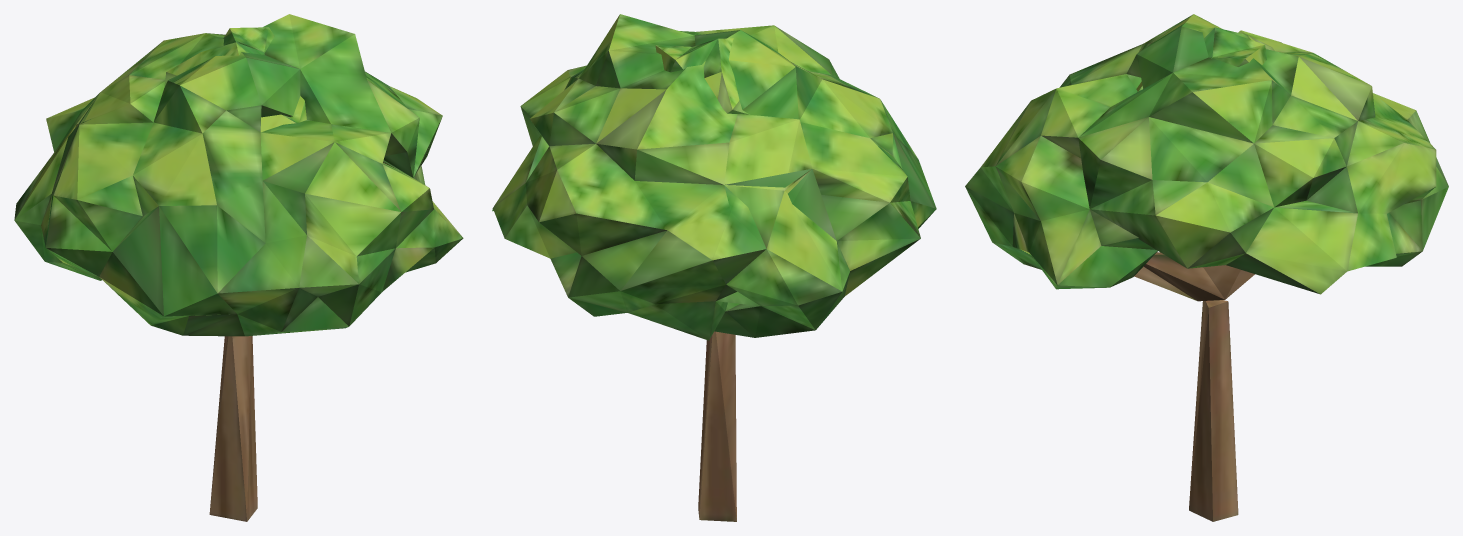
The model's file is tree_round_a_far.glb.
The picture shows the model from 3 angles, left to right: view 1: azimuth 30°, elevation 25°; view 2: azimuth 150°, elevation 25°; view 3: azimuth 270°, elevation 25°; orthographic projection. The views are drawn at different scales.
Parts seen in each view (by area): view 1: body; view 2: body; view 3: body.
Boxes of the visible parts, left/top/right/bottom form: body: left=14, top=14, right=463, bottom=521; body: left=492, top=14, right=936, bottom=521; body: left=965, top=14, right=1448, bottom=521.
Bounding box in the file's own units: 4.68 × 5.47 × 4.96.
Materials: 2 (2 with a texture image).
